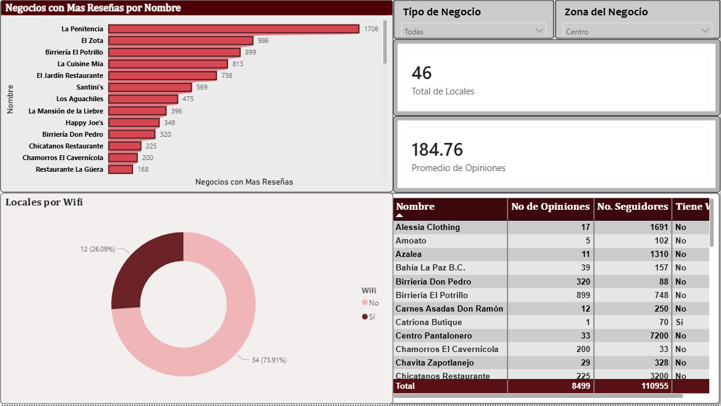

This screenshot's page, from the dashboard's own definition file:
{"tool":"powerbi","page":{"name":"Vistazo General","canvas":[1280,720],"ordinal":0},"visuals":[{"type":"barChart","fields":{"Category":["Establecimiento.Nombre"],"Y":["_Medidas.Promedio_Opiniones"]},"box":[0,0,698.9,343.2],"z":0},{"type":"slicer","title":"Holi","fields":{"Values":["Atributos_Web.PermitePedidos"]},"box":[698.9,0,286.8,70.5],"z":1000},{"type":"slicer","title":"Holi","fields":{"Values":["Geografia.Nombre_Zona"]},"box":[985.7,0,294.6,70.5],"z":2000},{"type":"cardVisual","fields":{"Data":["_Medidas.Total_Locales"]},"box":[698.9,70.5,581.4,136.3],"z":3000},{"type":"tableEx","fields":{"Values":["Establecimiento.Nombre","Sum(Presencia Posicionamiento Digital.Total_Reseñas)","Sum(Presencia Posicionamiento Digital.Seguidores)","Sucursal.Wifi_Texto"]},"box":[688,343.2,592.4,376.1],"z":4000},{"type":"donutChart","fields":{"Category":["Sucursal.Wifi_Texto"],"Y":["_Medidas.Total_Locales"]},"box":[0,343.2,698.9,376.1],"z":5000},{"type":"cardVisual","fields":{"Data":["_Medidas.Promedio_Opiniones"]},"box":[698.9,206.9,581.4,136.3],"z":6000}]}

Visuals, with their boxes in screenshot pixels (x1, y1, x2, y2), scaled from the page's 1280x720 canvas onto the 721x406 screenshot:
barChart - Establecimiento.Nombre x _Medidas.Promedio_Opiniones: select_region(0, 0, 394, 194)
"Holi" slicer: select_region(394, 0, 555, 40)
"Holi" slicer: select_region(555, 0, 720, 40)
cardVisual - _Medidas.Total_Locales: select_region(394, 40, 720, 117)
tableEx - Establecimiento.Nombre x Sum(Presencia Posicionamiento Digital.Total_Reseñas): select_region(388, 194, 720, 405)
donutChart - Sucursal.Wifi_Texto x _Medidas.Total_Locales: select_region(0, 194, 394, 405)
cardVisual - _Medidas.Promedio_Opiniones: select_region(394, 117, 720, 194)
